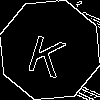K: (25, 25, 70, 79)
